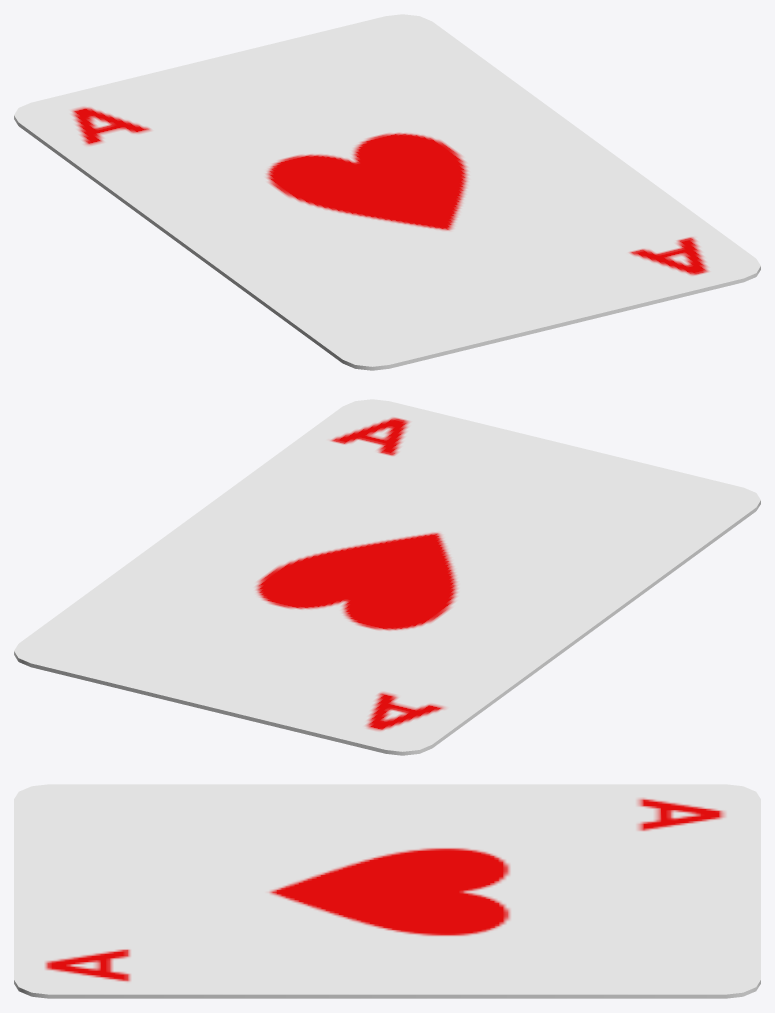
The model's file is Card.fbx.
3 renders of one model, top to bottom at view 1: azimuth 30°, elevation 25°; view 2: azimuth 150°, elevation 25°; view 3: azimuth 270°, elevation 25°, orthographic. The views are drawn at different scales.
Visible parts, largest first — view 1: Card_Alpha; view 2: Card_Alpha; view 3: Card_Alpha.
Part boxes in pixels (bbox=[...]): Card_Alpha: bbox=[14, 14, 760, 370]; Card_Alpha: bbox=[14, 399, 760, 755]; Card_Alpha: bbox=[14, 784, 760, 998].
Bounding box in the file's own units: 19.47 × 0.175 × 29.2.
